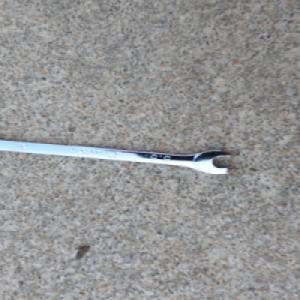Wrench: (0, 136, 235, 175)
